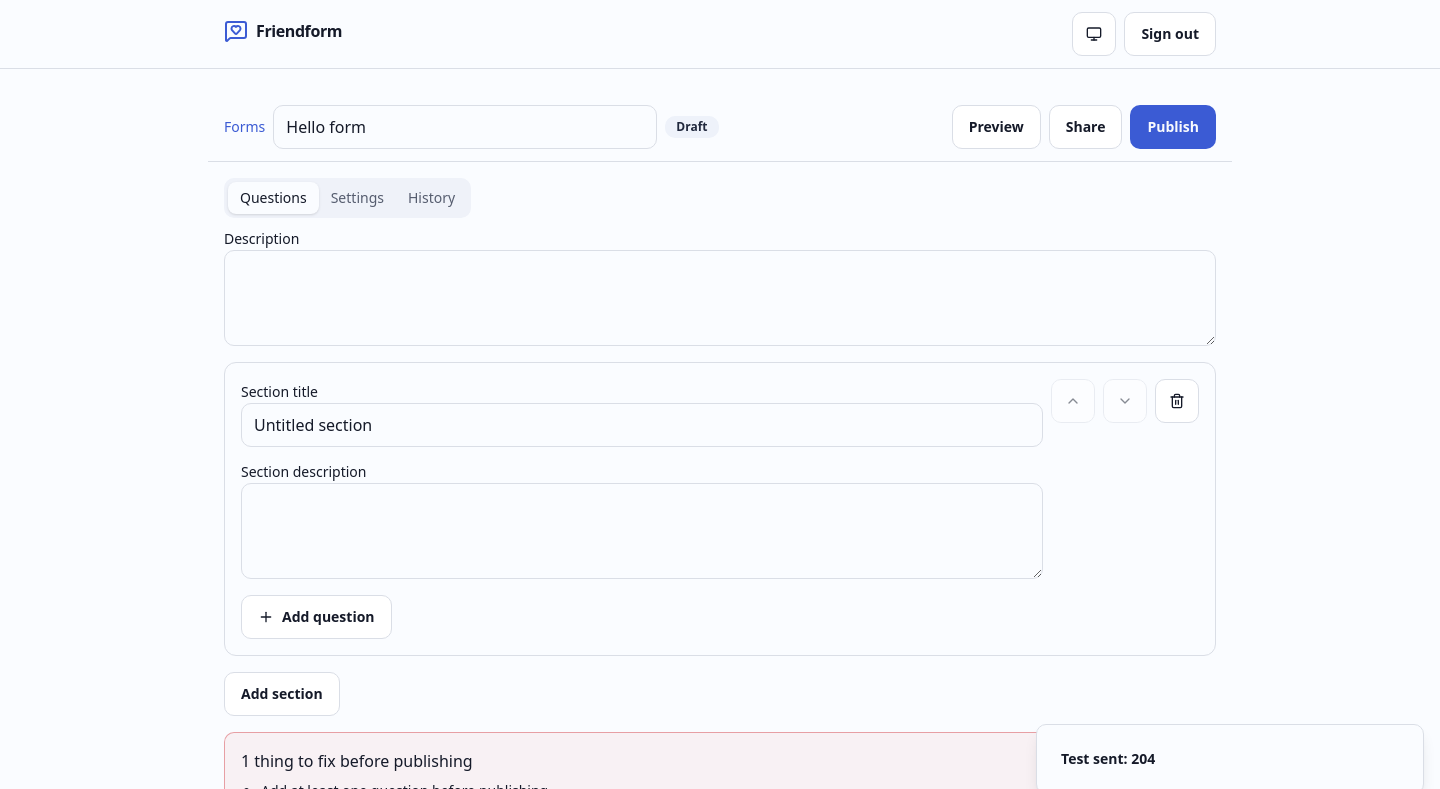
Test case: SettingsTab › asks for a URL before a webhook can be tested
Click the tab "Settings" at (357, 198), box [319, 182, 396, 214]
(page scrolled)
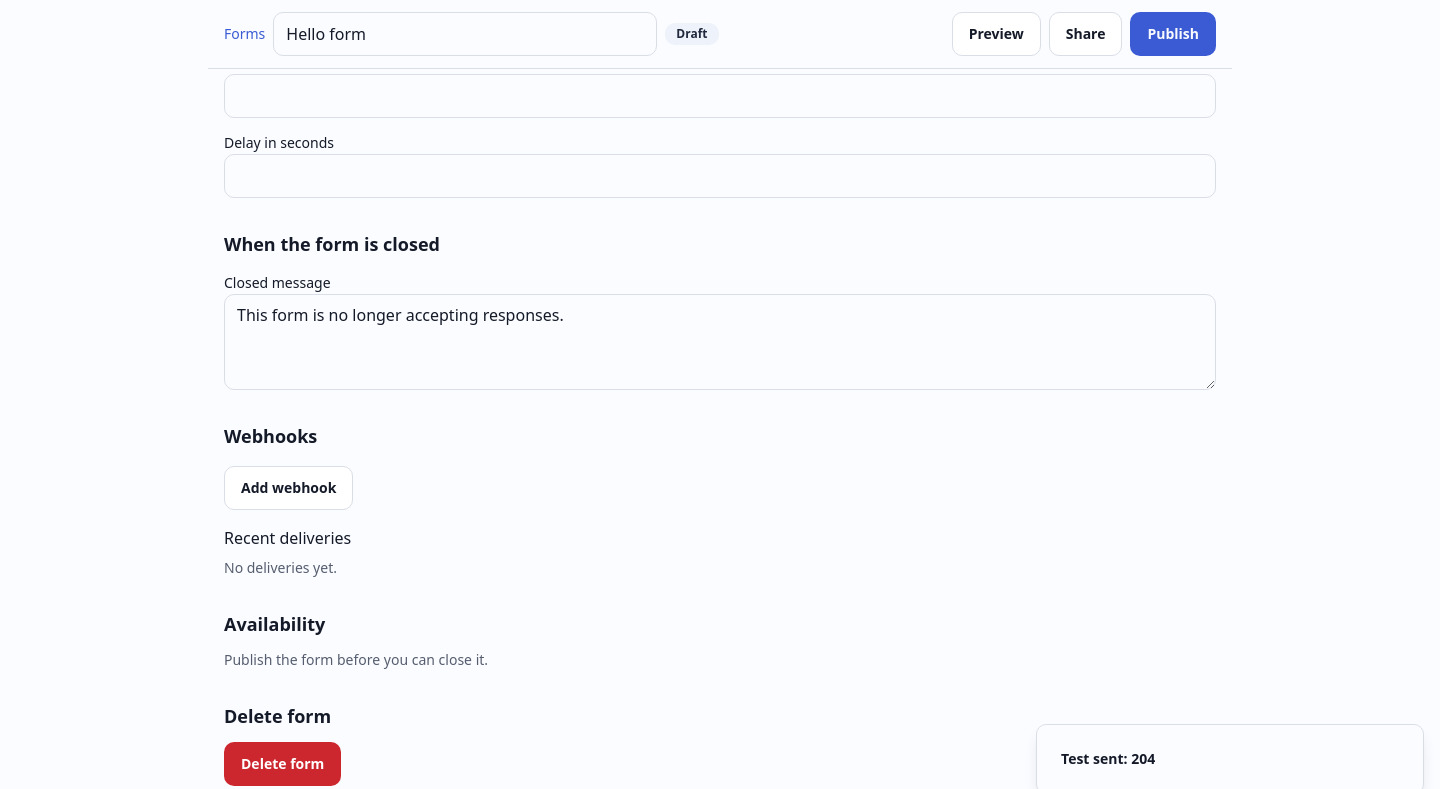
Click the button "Add webhook" at (289, 488), box [224, 466, 353, 510]
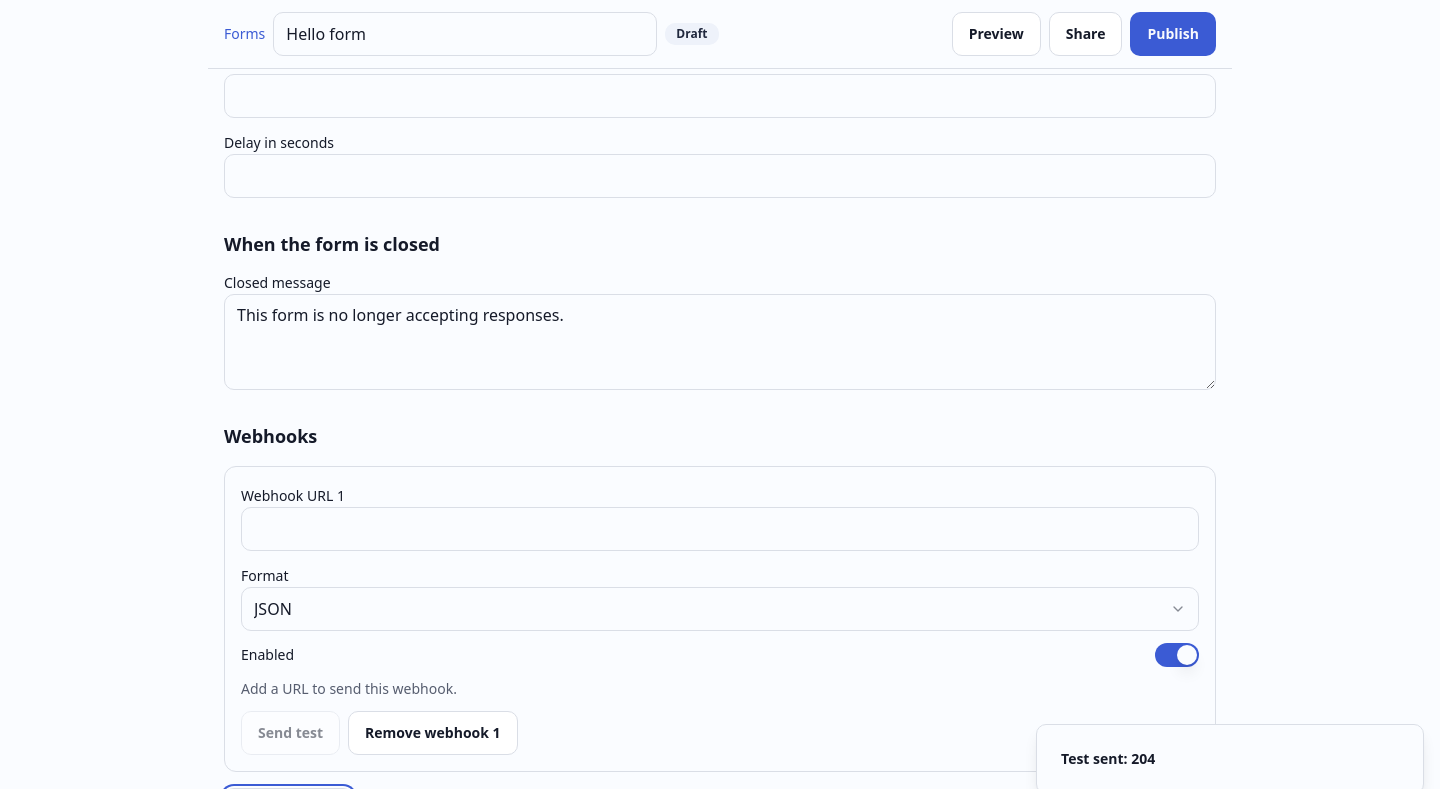
Check: the button "Send test" is disabled, box [241, 711, 340, 755]
Check: the text "Add a URL to send this webhook." is shown, box [241, 679, 457, 698]
